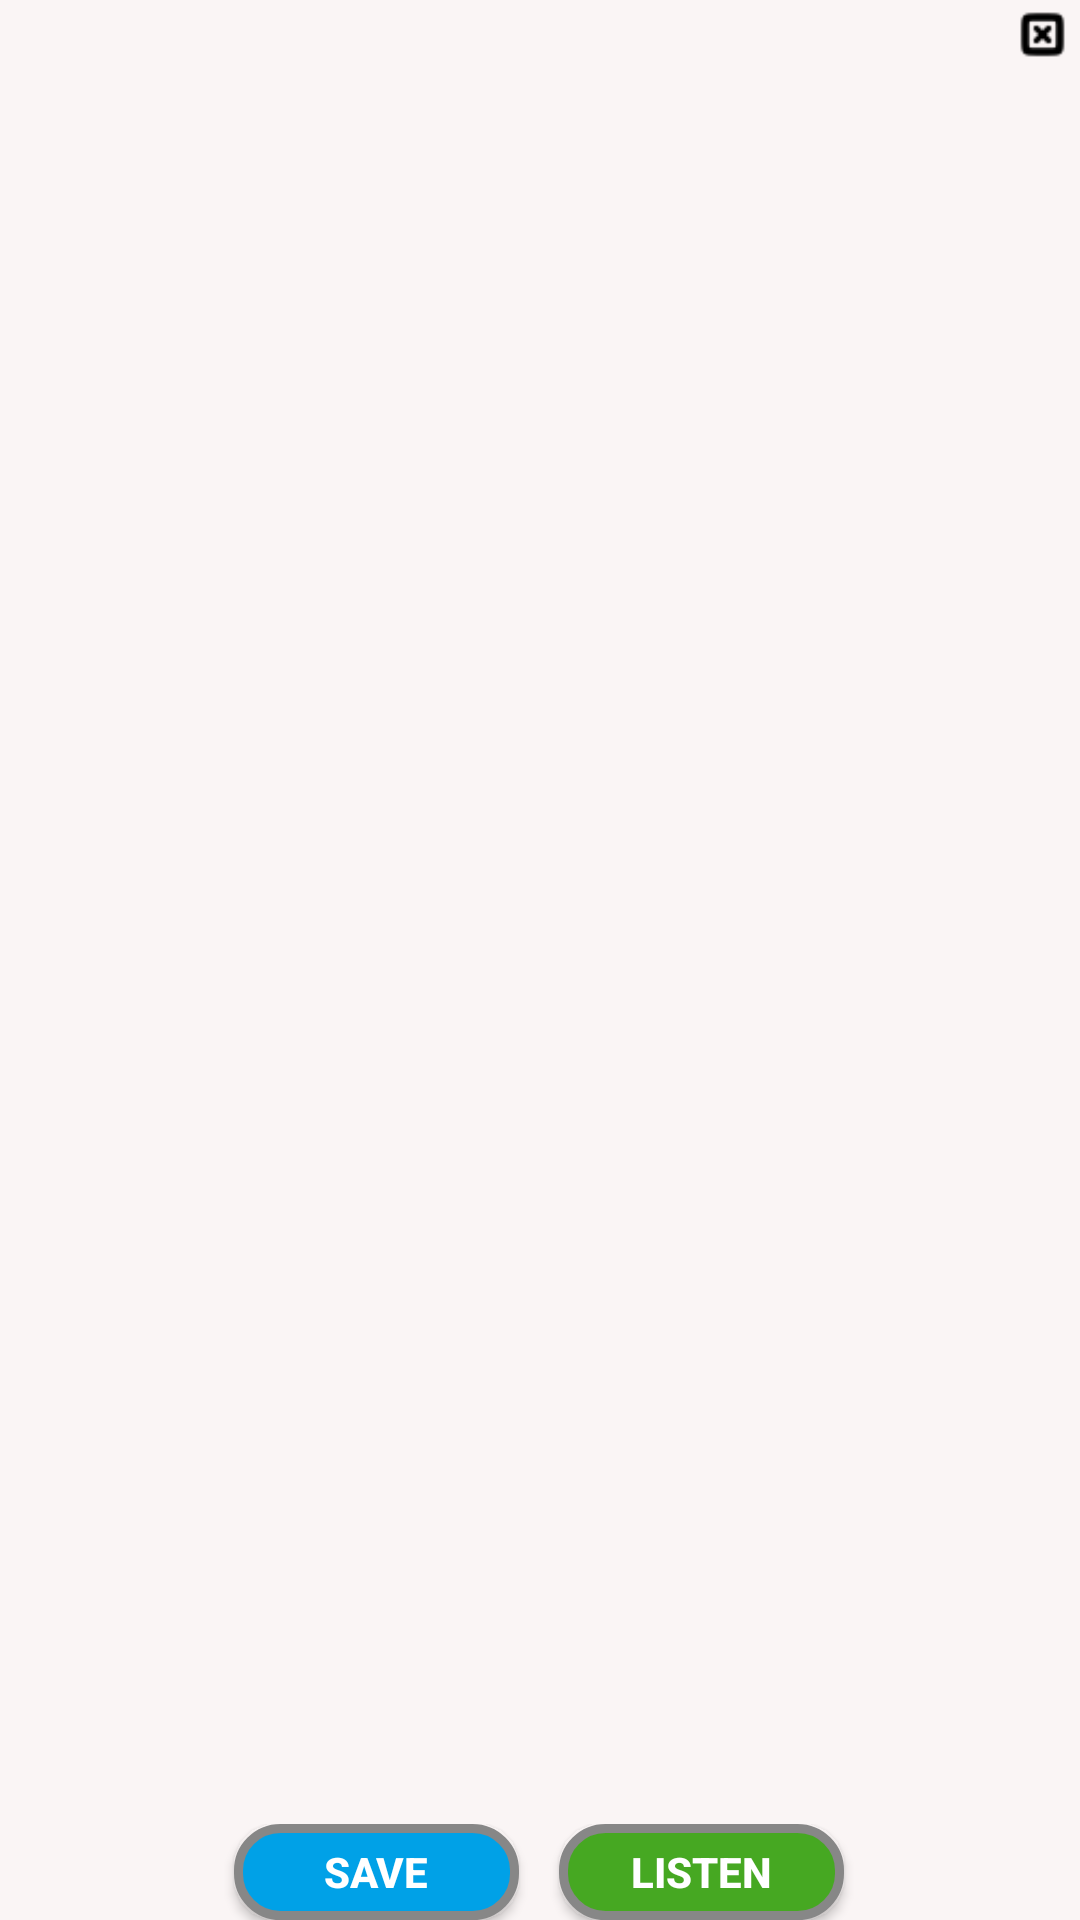

Named icons in this screenshot (1080px x 1920px) and their bounding boxes, (x1, y1, x2, y2):
close design: (1020, 12, 1065, 57)
